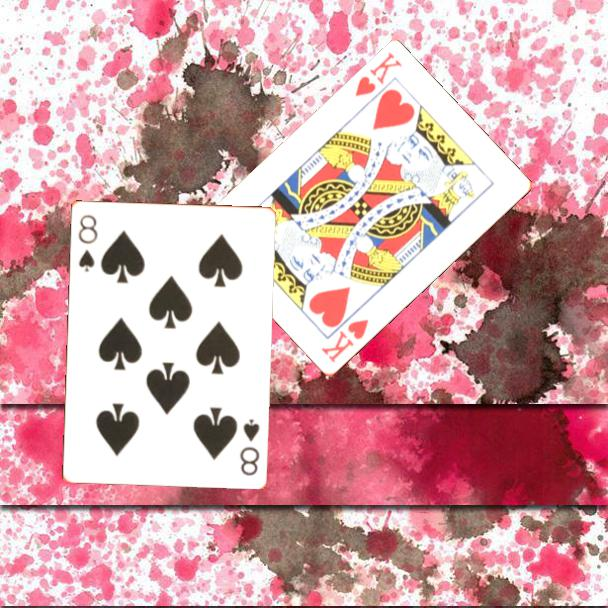h13: (351, 49, 405, 100), (318, 316, 372, 366)
s08: (74, 211, 100, 275), (236, 415, 262, 478)
